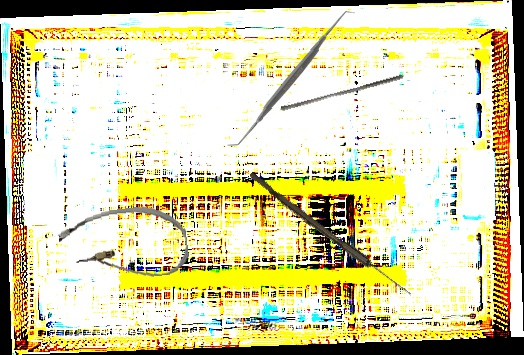Cannula: (56, 201, 191, 288)
Pusher: (279, 69, 405, 116)
Spatula Surgical: (224, 10, 358, 148)
Surgical Spoon: (246, 171, 415, 299)
